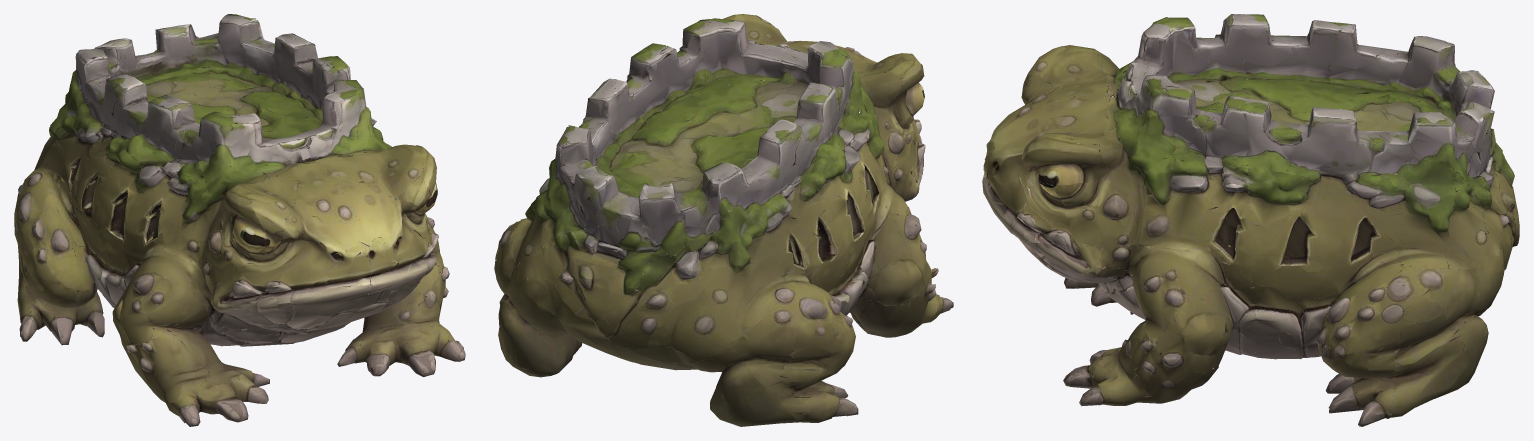
3 renders of one model, left to right at view 1: azimuth 30°, elevation 25°; view 2: azimuth 150°, elevation 25°; view 3: azimuth 270°, elevation 25°, orthographic. The views are drawn at different scales.
Visible parts, largest first — view 1: Mesh_0; view 2: Mesh_0; view 3: Mesh_0.
Part boxes in pixels (x1,y1,x2,y2): Mesh_0: (14,14,465,426); Mesh_0: (494,14,953,426); Mesh_0: (982,14,1519,426).
Size of the model in its own units: 1.54 by 1.11 by 1.9.
Materials: 1 (1 with a texture image).
